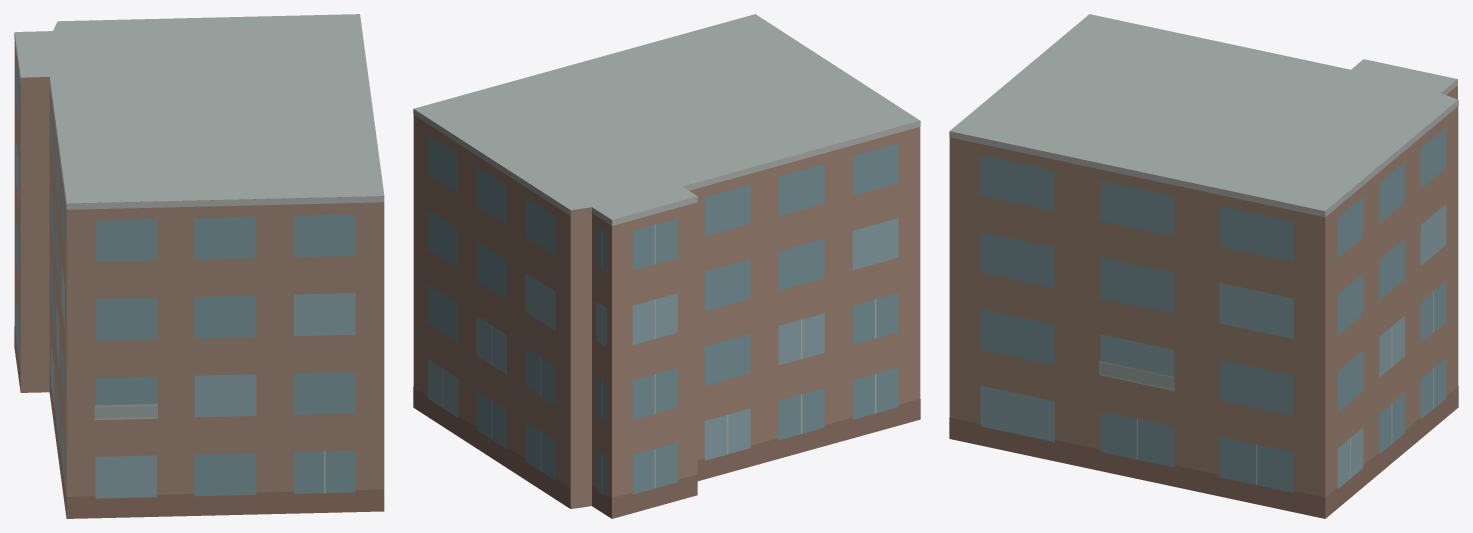
The model's file is residential-53e5e96d-abe5-407c-86c6-ad7451893683.glb.
The picture shows the model from 3 angles, left to right: view 1: azimuth 30°, elevation 25°; view 2: azimuth 150°, elevation 25°; view 3: azimuth 270°, elevation 25°; orthographic projection. The views are drawn at different scales.
Parts seen in each view (by area): view 1: residential-53e5e96d-abe5-407c-86c6-ad7451893683.tmp; view 2: residential-53e5e96d-abe5-407c-86c6-ad7451893683.tmp; view 3: residential-53e5e96d-abe5-407c-86c6-ad7451893683.tmp.
Part boxes in pixels (<box>): residential-53e5e96d-abe5-407c-86c6-ad7451893683.tmp: <box>14,14,384,518</box>; residential-53e5e96d-abe5-407c-86c6-ad7451893683.tmp: <box>413,14,920,518</box>; residential-53e5e96d-abe5-407c-86c6-ad7451893683.tmp: <box>949,14,1458,518</box>.
Bounding box in the file's own units: 16.78 × 12.2 × 18.3.
